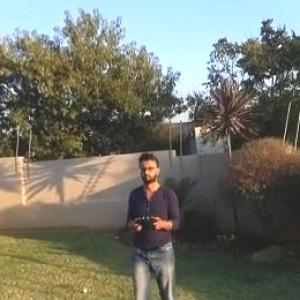follow: (122, 149, 185, 299)
